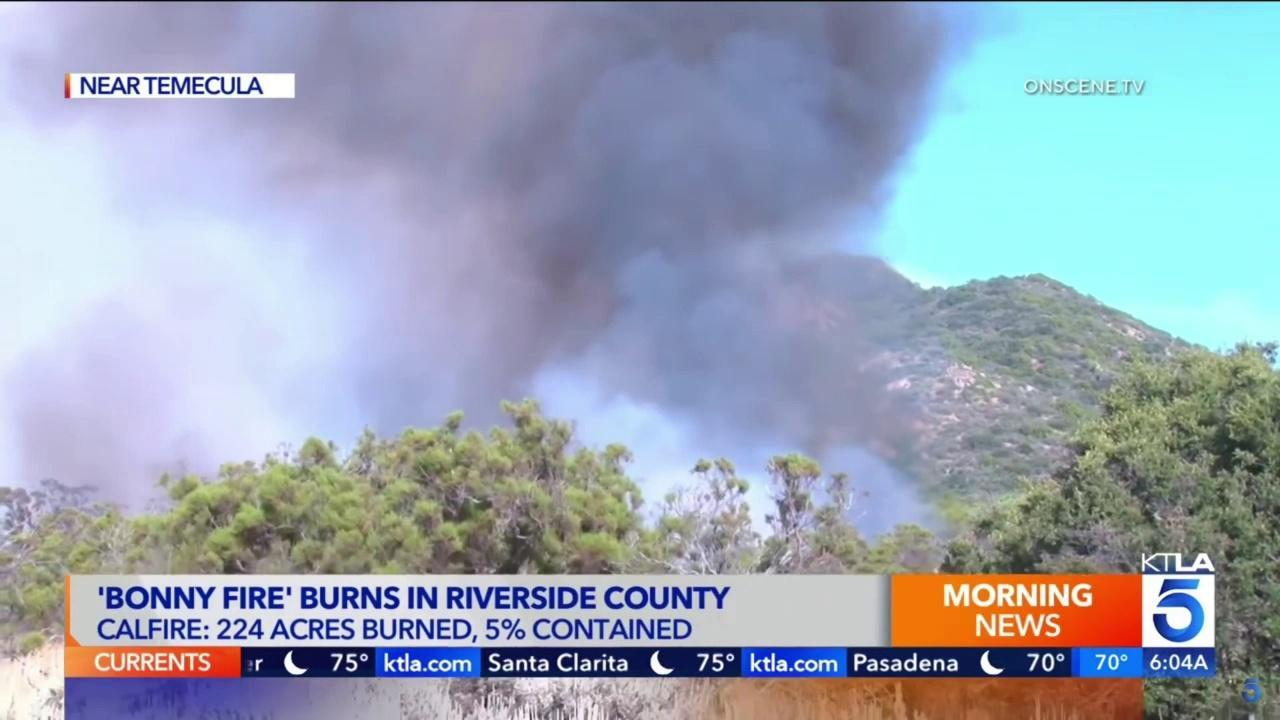smoke: (0, 0, 1020, 554)
